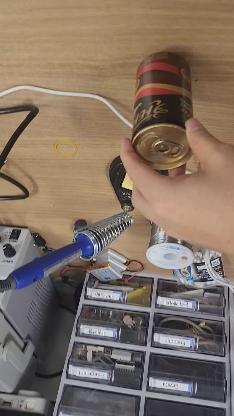Can: (130, 52, 190, 168)
